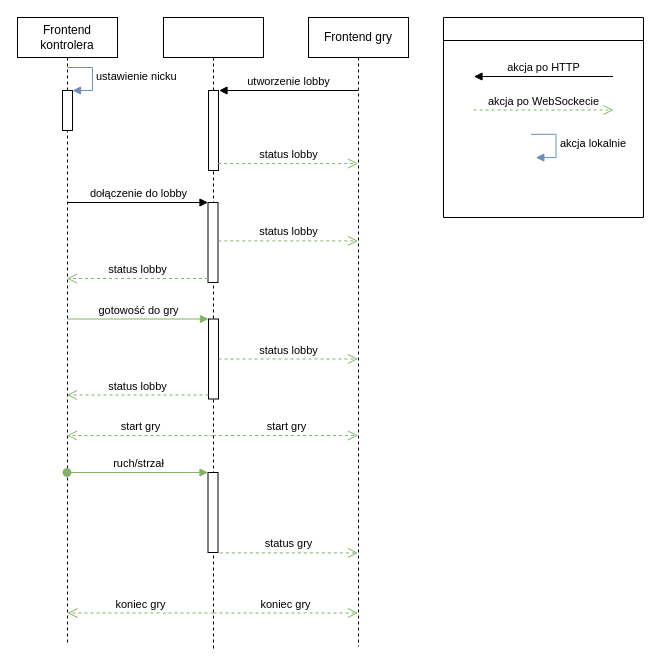
Some shapes in this 661 by 666 pixel diagram are drawn without their labels. The centre of each missing label's shape, as x and y in pixels:
"Backend" goes at (213,332).
"Legenda" goes at (543,117).
